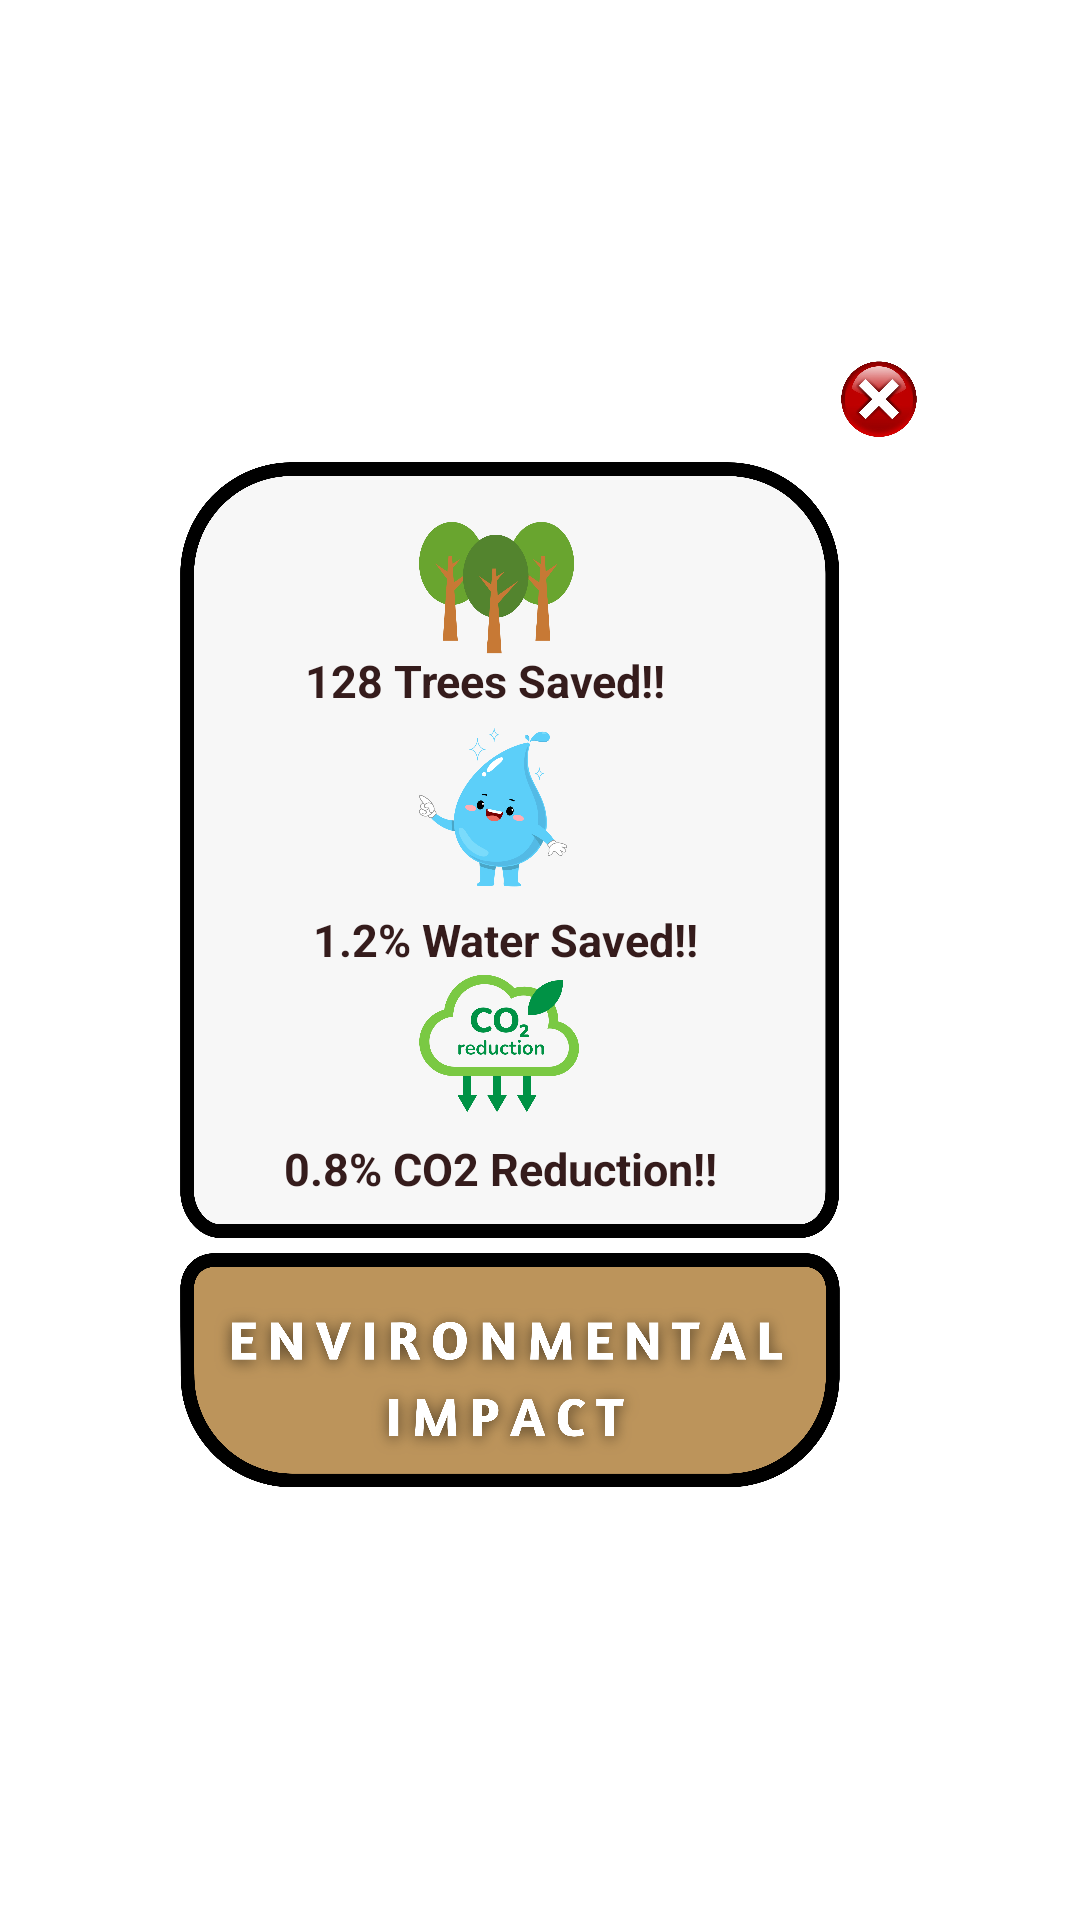

Screen size 1080px×1920px. Icon name, then its center in pixels as point (x, y):
close: point (879, 399)
